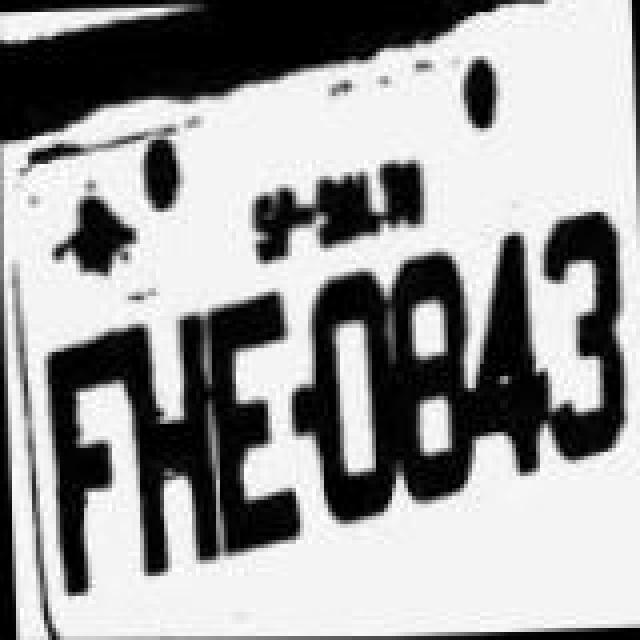3: (538, 198, 626, 462)
4: (466, 208, 550, 480)
8: (384, 244, 472, 504)
E: (202, 276, 306, 564)
F: (40, 310, 132, 602)
H: (120, 294, 220, 582)
O: (308, 252, 396, 532)
